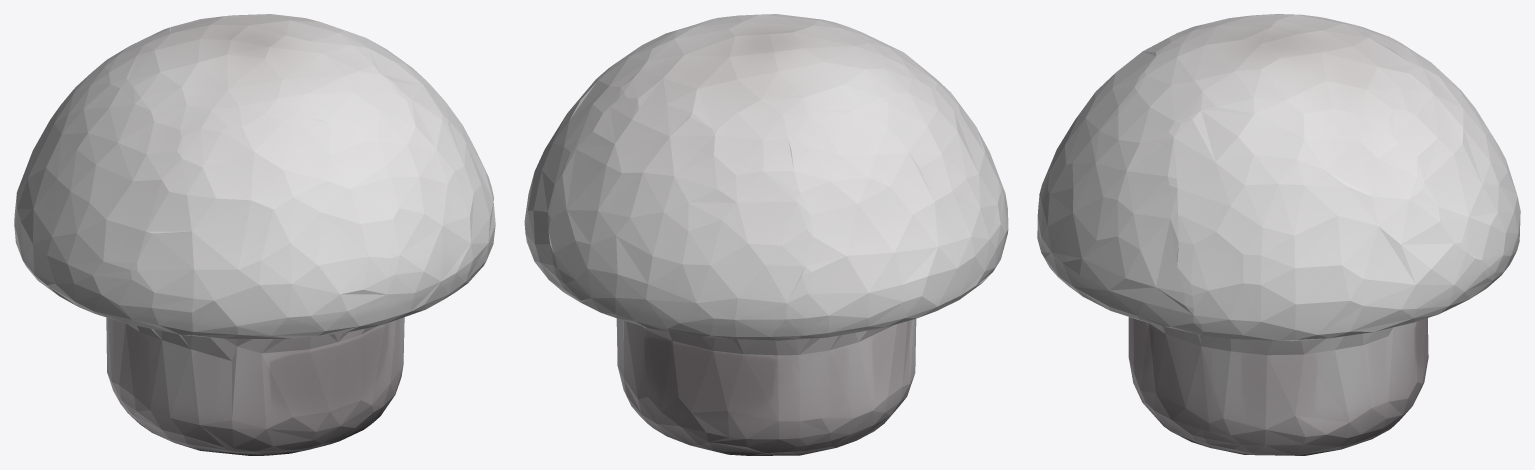
The model's file is bumper-cap.glb.
3 views of the same model, side by side, from view 1: azimuth 30°, elevation 25°; view 2: azimuth 150°, elevation 25°; view 3: azimuth 270°, elevation 25° (orthographic).
Visible parts, largest first — view 1: world; view 2: world; view 3: world.
Boxes of the visible parts, box(x1,y1,x2,y2) form: world: box(14, 14, 495, 455); world: box(524, 14, 1008, 455); world: box(1037, 14, 1520, 455).
Bounding box in the file's own units: 20 × 17.06 × 19.99.
Materials: 1 (1 with a texture image).
